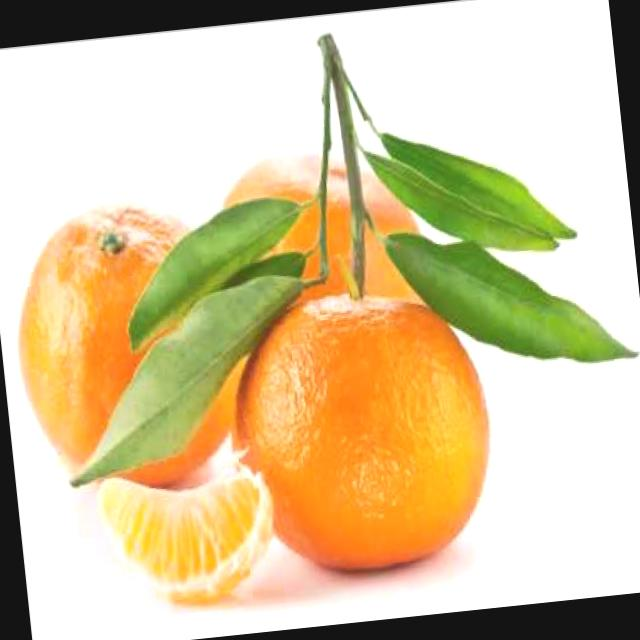orange: (216, 271, 516, 605), (0, 184, 267, 504), (205, 143, 448, 429)
